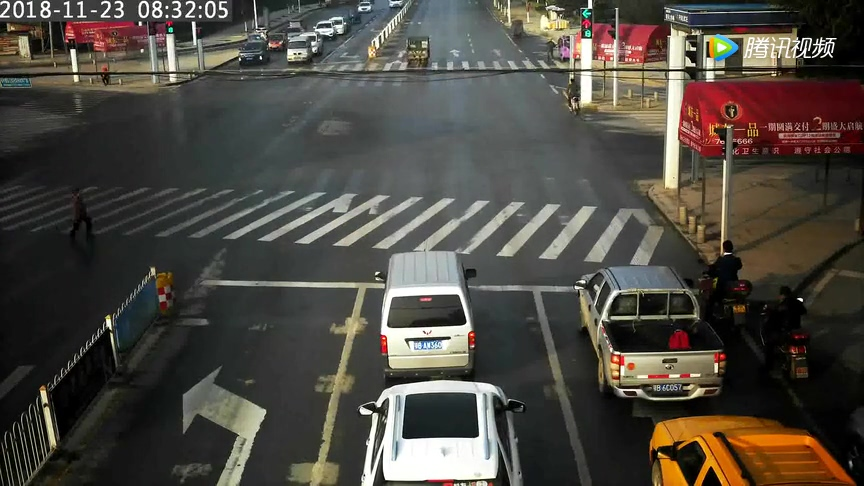car: (565, 265, 731, 420), (353, 376, 536, 486), (367, 251, 492, 380), (399, 37, 440, 78), (231, 41, 276, 67), (282, 38, 317, 71)
person: (759, 276, 804, 366), (707, 233, 745, 330), (58, 190, 105, 247), (566, 74, 585, 116), (545, 30, 558, 70), (98, 65, 114, 93)
